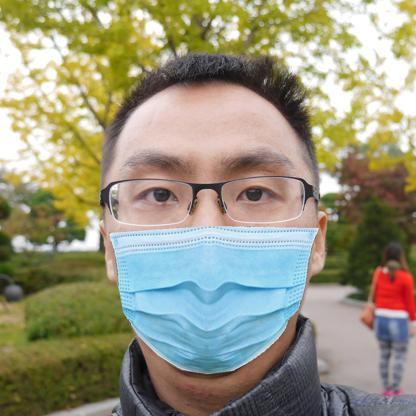mask: (104, 219, 324, 376)
